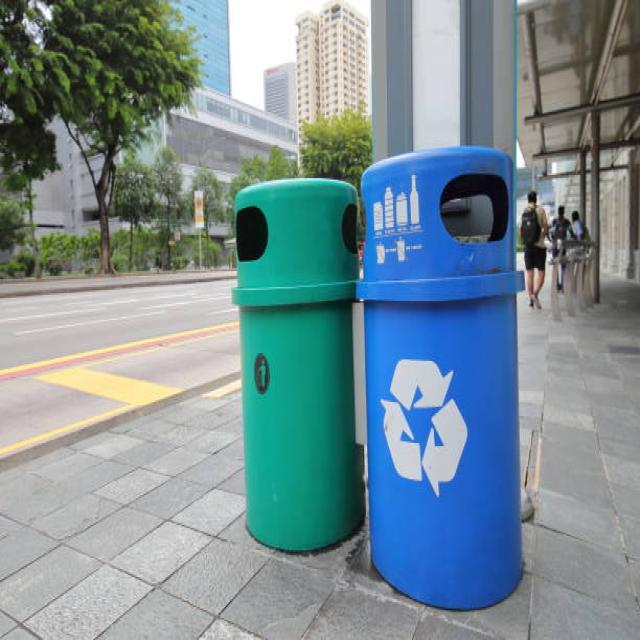bin_empty: (356, 159, 552, 632), (231, 182, 372, 536)
